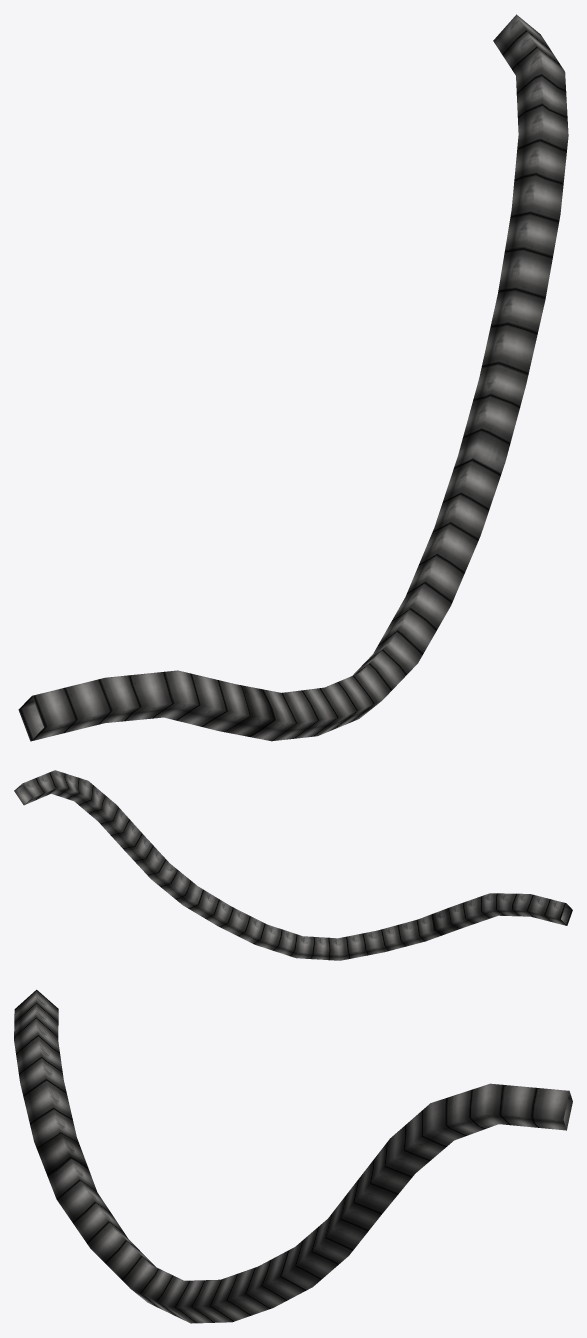
The model's file is Hose_G.fbx.
3 renders of one model, top to bottom at view 1: azimuth 30°, elevation 25°; view 2: azimuth 150°, elevation 25°; view 3: azimuth 270°, elevation 25°, orthographic. The views are drawn at different scales.
Visible parts, largest first — view 1: ___babelPipe1_0_0:___babelPipe1; view 2: ___babelPipe1_0_0:___babelPipe1; view 3: ___babelPipe1_0_0:___babelPipe1.
Boxes of the visible parts, x1=… form: ___babelPipe1_0_0:___babelPipe1: x1=18, y1=14, x2=568, y2=741; ___babelPipe1_0_0:___babelPipe1: x1=14, y1=770, x2=572, y2=960; ___babelPipe1_0_0:___babelPipe1: x1=14, y1=989, x2=572, y2=1323.
Bounding box in the file's own units: 5.59 × 2.86 × 3.79.
